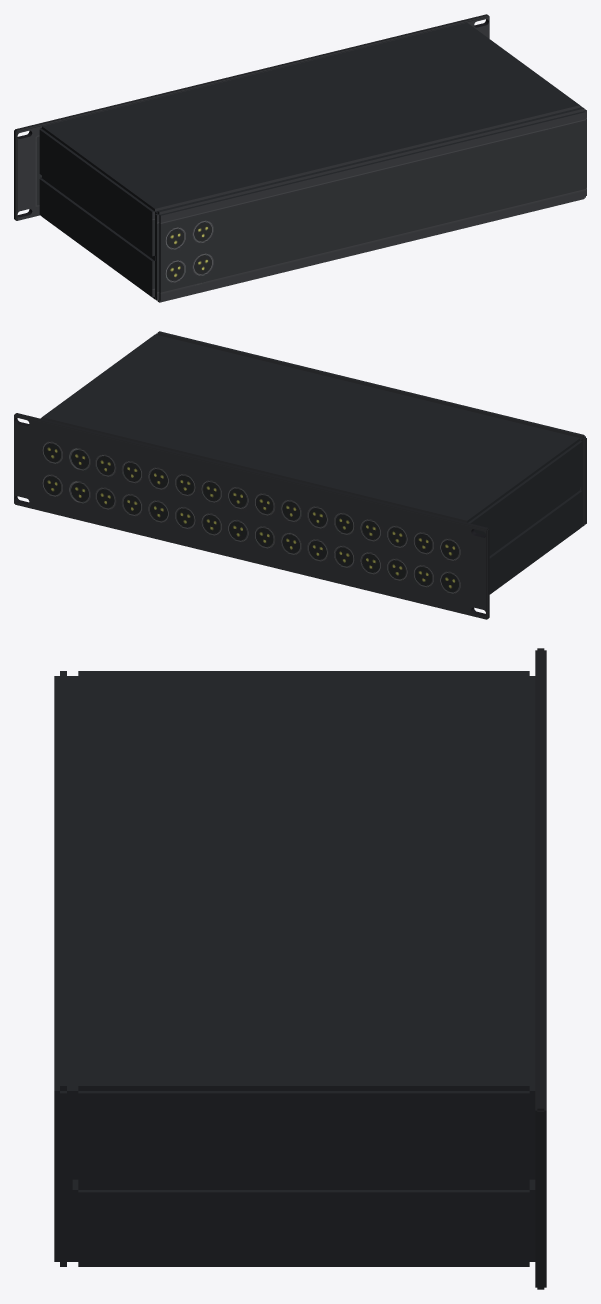
Rendered from canare-162u-x21.glb.
3 views of the same model, one above another, from view 1: azimuth 30°, elevation 25°; view 2: azimuth 150°, elevation 25°; view 3: azimuth 270°, elevation 25° (orthographic). The views are drawn at different scales.
Parts seen in each view (by area): view 1: canare-162u-x21-body; view 2: canare-162u-x21-body; view 3: canare-162u-x21-body.
Part boxes in pixels (x1,y1,x2,y2): canare-162u-x21-body: (14, 14, 586, 302); canare-162u-x21-body: (14, 331, 586, 619); canare-162u-x21-body: (54, 648, 546, 1289).
Size of the model in its own units: 0.4826 by 0.0881 by 0.217.
1 material, 1 textured.
